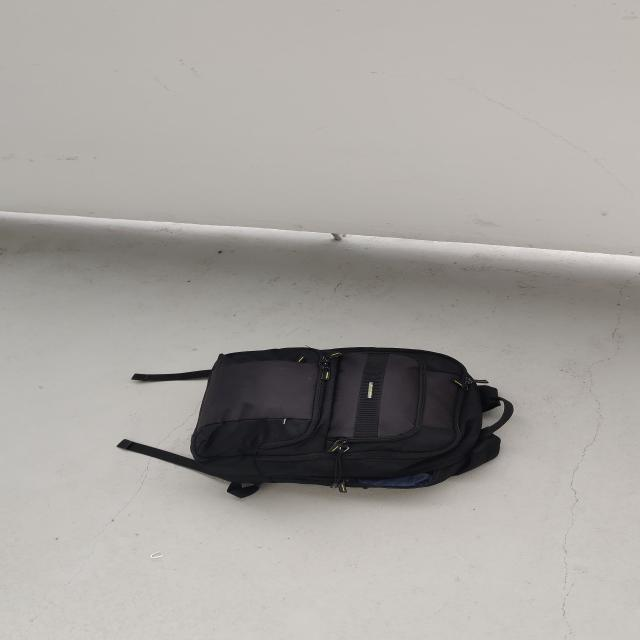backpack: (179, 340, 521, 497)
